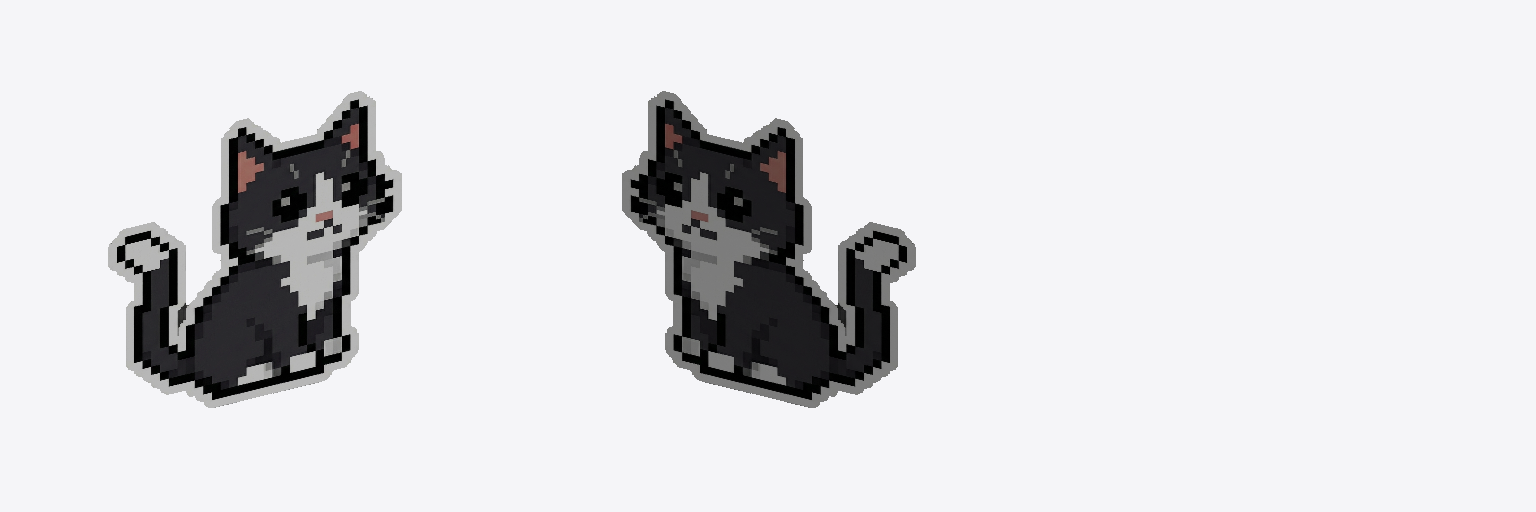
3 views of the same model, side by side, from view 1: azimuth 30°, elevation 25°; view 2: azimuth 150°, elevation 25°; view 3: azimuth 270°, elevation 25° (orthographic).
Parts seen in each view (by area): view 1: cat3.001; view 2: cat3.001; view 3: none.
Boxes of the visible parts, <box> form: cat3.001: <box>108,91,401,407</box>; cat3.001: <box>622,91,915,407</box>.
Bounding box in the file's own units: 1.12 × 1 × 0.
Materials: 1 (1 with a texture image).